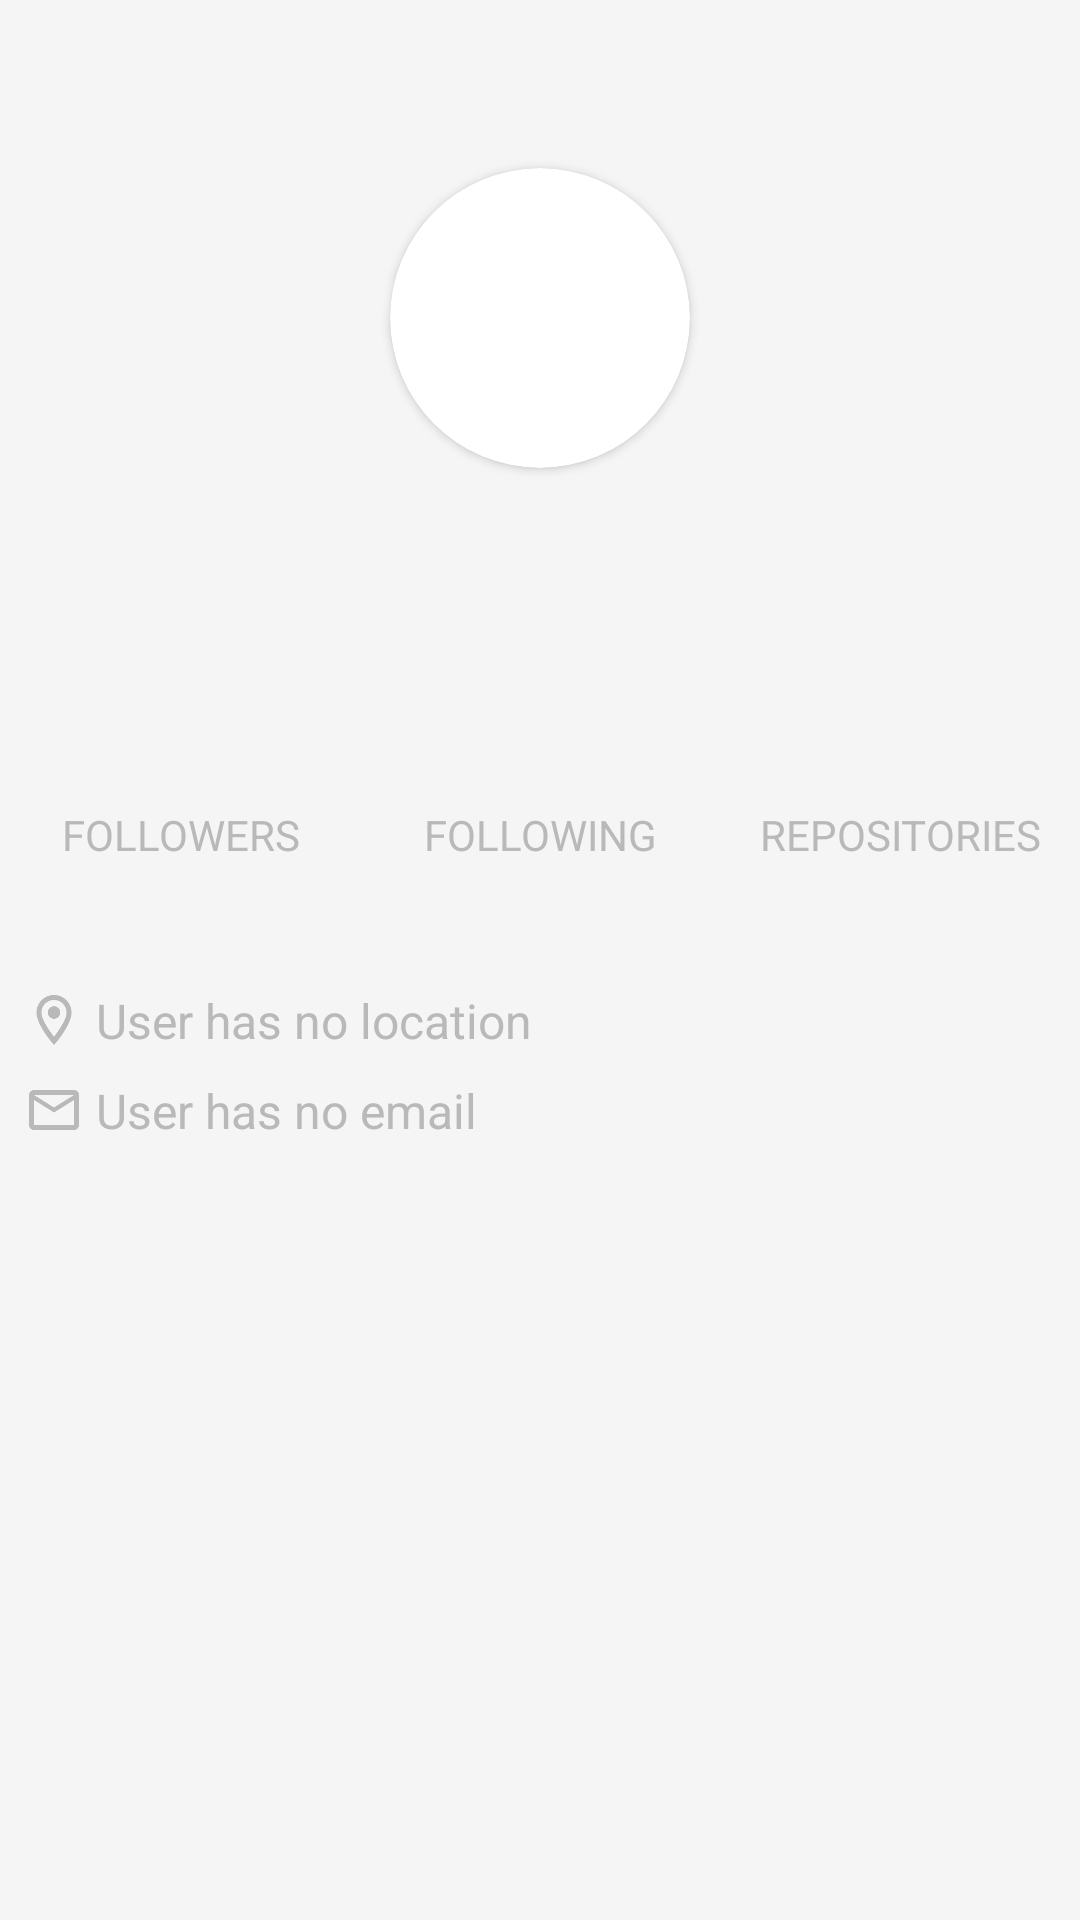

Icons on this 1080px×1920px Android screen, each with its box as (x1, y1, x2, y2):
map: (36, 995, 72, 1045)
